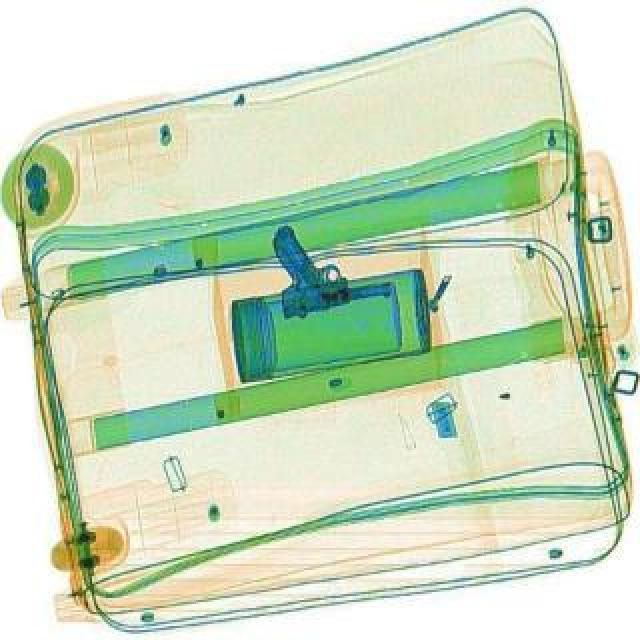gun: (262, 206, 396, 322)
